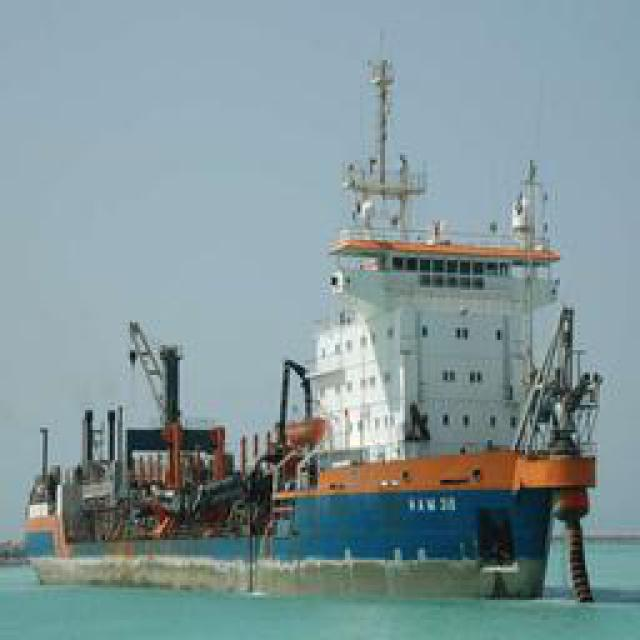Ship: (14, 52, 601, 598)
